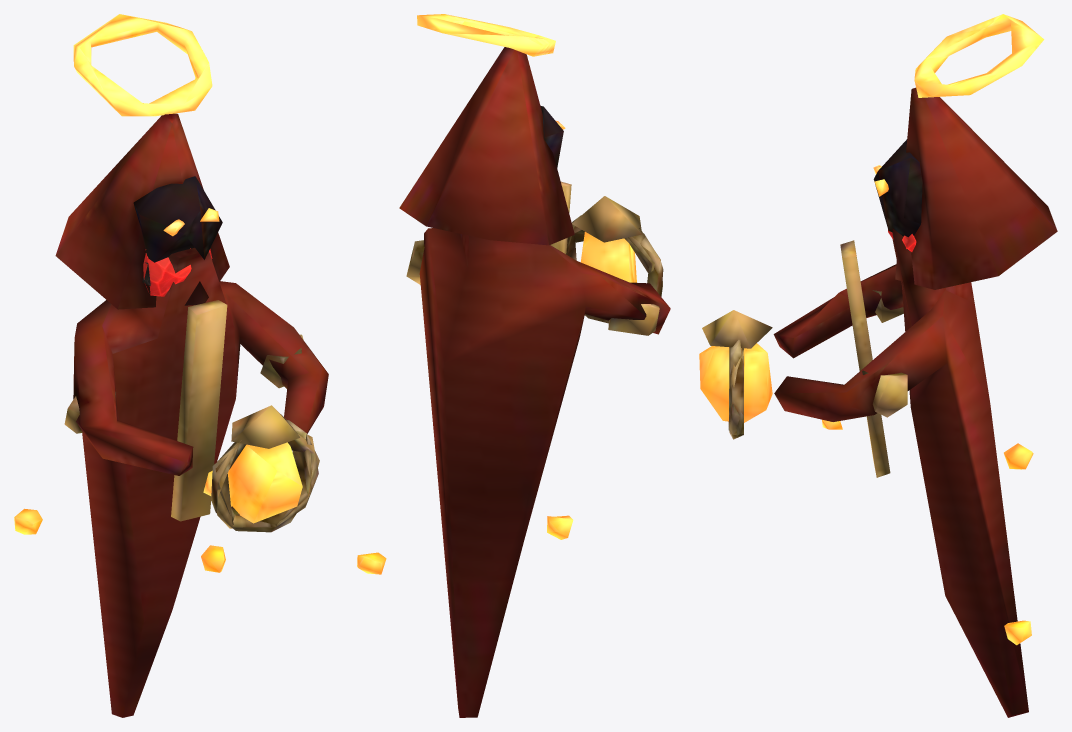
Rendered from u_mender_x_g.glb.
3 renders of one model, left to right at view 1: azimuth 30°, elevation 25°; view 2: azimuth 150°, elevation 25°; view 3: azimuth 270°, elevation 25°, orthographic.
Visible parts, largest first — view 1: u_mender_x; view 2: u_mender_x; view 3: u_mender_x.
Part boxes in pixels (bbox=[...]): u_mender_x: bbox=[14, 14, 328, 717]; u_mender_x: bbox=[357, 14, 670, 717]; u_mender_x: bbox=[699, 14, 1057, 717].
Bounding box in the file's own units: 0.6775 × 1.81 × 0.8634.
2 materials, 2 textured.
